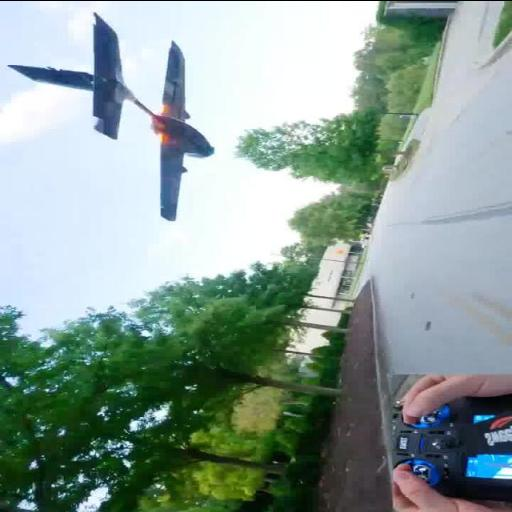uav: (8, 8, 222, 228)
